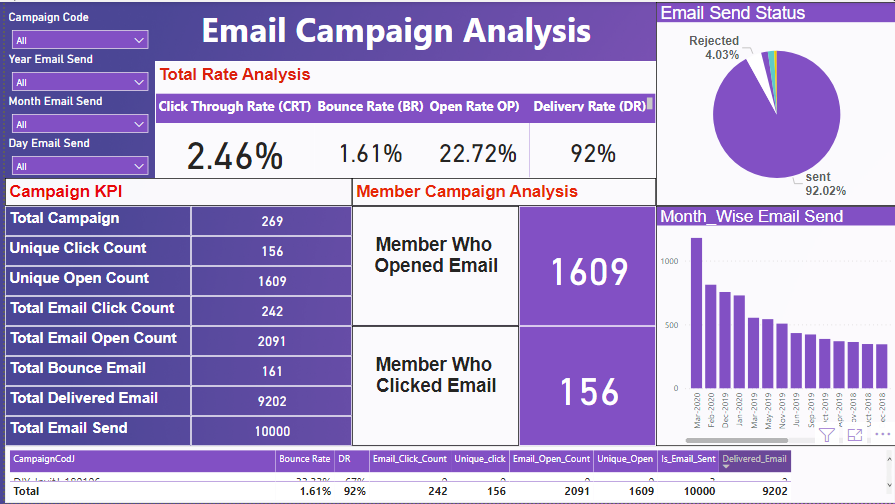

Layout of this report page (visuals, bound fields, positions):
{"tool":"powerbi","page":{"name":"Page 1","canvas":[1280,720],"ordinal":0},"visuals":[{"type":"textbox","box":[215.6,0,692.7,84.8],"z":0},{"type":"slicer","title":"Campaign Code","fields":{"Values":["TBL_Communication.CampaignCodJ"]},"box":[0,11.5,215.6,60.4],"z":1000},{"type":"slicer","title":"Year Email Send","fields":{"Values":["TBL_Communication.Email_SentDate.Variation.Date Hierarchy.Year"]},"box":[0,71.9,215.6,60.4],"z":2000},{"type":"slicer","title":"Month Email Send","fields":{"Values":["TBL_Communication.Email_SentDate.Variation.Date Hierarchy.Month"]},"box":[0,132.2,215.6,60.4],"z":3000},{"type":"slicer","title":"Day Email Send","fields":{"Values":["TBL_Communication.Email_SentDate.Variation.Date Hierarchy.Day"]},"box":[0,192.6,215.6,60.4],"z":4000},{"type":"shape","box":[215.6,84.8,720,168.1],"z":5000},{"type":"textbox","box":[215.6,84.8,720,47.4],"z":6000},{"type":"textbox","box":[215.6,132.2,238.6,37.4],"z":7000},{"type":"textbox","box":[444.1,132.2,176.8,41.7],"z":8000},{"type":"textbox","box":[754.5,132.2,181.1,30.2],"z":9000},{"type":"textbox","box":[605,132.2,149.5,35.9],"z":10000},{"type":"shape","box":[0,252.9,498.7,385.1],"z":11000},{"type":"textbox","box":[0,252.9,498.7,40.2],"z":12000},{"type":"textbox","box":[0,293.2,267.3,43.1],"z":13000},{"type":"textbox","box":[0,336.3,267.3,43.1],"z":14000},{"type":"textbox","box":[0,379.4,267.3,43.1],"z":15000},{"type":"textbox","box":[0,422.5,267.3,43.1],"z":16000},{"type":"textbox","box":[0,465.6,267.3,43.1],"z":17000},{"type":"textbox","box":[0,508.7,267.3,43.1],"z":18000},{"type":"textbox","box":[0,551.9,267.3,43.1],"z":19000},{"type":"textbox","box":[0,595,267.3,43.1],"z":20000},{"type":"card","fields":{"Values":["Count(TBL_Communication.CampaignCodJ)"]},"box":[267.3,293.2,231.4,43.1],"z":21000},{"type":"card","fields":{"Values":["Sum(TBL_Communication.Unique_click)"]},"box":[267.3,336.3,231.4,43.1],"z":22000},{"type":"card","fields":{"Values":["Sum(TBL_Communication.Unique_Open)"]},"box":[267.3,379.4,231.4,43.1],"z":23000},{"type":"card","fields":{"Values":["Sum(TBL_Communication.Email_Click_Count)"]},"box":[267.3,422.5,231.4,43.1],"z":24000},{"type":"card","fields":{"Values":["Sum(TBL_Communication.Email_Open_Count)"]},"box":[267.3,465.6,231.4,43.1],"z":25000},{"type":"card","fields":{"Values":["Sum(TBL_Communication.Bounced_Email)"]},"box":[267.3,508.7,231.4,43.1],"z":26000},{"type":"card","fields":{"Values":["Sum(TBL_Communication.Delivered_Email)"]},"box":[267.3,551.9,231.4,43.1],"z":27000},{"type":"card","fields":{"Values":["Sum(TBL_Communication.Is_Email_Sent)"]},"box":[267.3,595,231.4,43.1],"z":28000},{"type":"card","fields":{"Values":["TBL_Communication.CRT"]},"box":[215.6,173.9,228.5,79],"z":29000},{"type":"card","fields":{"Values":["TBL_Communication.BR"]},"box":[444.1,173.9,161,79],"z":30000},{"type":"card","fields":{"Values":["TBL_Communication.OPR"]},"box":[605,173.9,149.5,79],"z":31000},{"type":"card","fields":{"Values":["TBL_Communication.DR"]},"box":[754.5,173.9,181.1,79],"z":32000},{"type":"shape","box":[498.7,254.4,436.9,383.7],"z":33000},{"type":"textbox","box":[498.7,252.9,436.9,40.2],"z":34000},{"type":"textbox","box":[498.7,293.2,240,172.5],"z":35000},{"type":"textbox","box":[498.7,465.6,240,172.5],"z":36000},{"type":"card","fields":{"Values":["CountNonNull(TBL_Communication.Member Open)"]},"box":[738.7,293.2,196.9,172.5],"z":37000},{"type":"card","fields":{"Values":["CountNonNull(TBL_Communication.Member Clicked)"]},"box":[738.7,465.6,196.9,172.5],"z":38000},{"type":"pieChart","title":"Email Send Status","fields":{"Category":["TBL_Communication.Email_Sent_Status"],"Y":["CountNonNull(TBL_Communication.CampaignCodJ)"]},"box":[935.6,0,344.9,293.2],"z":39000},{"type":"clusteredColumnChart","title":"Month_Wise Email Send","fields":{"Category":["TBL_Communication.Month_Year"],"Y":["Sum(TBL_Communication.Is_Email_Sent)"]},"box":[935.6,293.2,344.9,344.9],"z":40000},{"type":"tableEx","fields":{"Values":["TBL_Communication.CampaignCodJ","TBL_Communication.BR","TBL_Communication.DR","Sum(TBL_Communication.Email_Click_Count)","Sum(TBL_Communication.Unique_click)","Sum(TBL_Communication.Email_Open_Count)","Sum(TBL_Communication.Unique_Open)","Sum(TBL_Communication.Is_Email_Sent)","Sum(TBL_Communication.Delivered_Email)"]},"box":[0,638.1,1280.5,81.9],"z":41000}]}

Visuals, with their boxes in screenshot pixels (x1, y1, x2, y2), scaled from the page's 1280x720 canvas onto the 895x504 screenshot:
textbox: detection(151, 0, 635, 59)
"Campaign Code" slicer: detection(0, 8, 151, 50)
"Year Email Send" slicer: detection(0, 50, 151, 93)
"Month Email Send" slicer: detection(0, 93, 151, 135)
"Day Email Send" slicer: detection(0, 135, 151, 177)
shape: detection(151, 59, 654, 177)
textbox: detection(151, 59, 654, 93)
textbox: detection(151, 93, 318, 119)
textbox: detection(311, 93, 434, 122)
textbox: detection(528, 93, 654, 114)
textbox: detection(423, 93, 528, 118)
shape: detection(0, 177, 349, 447)
textbox: detection(0, 177, 349, 205)
textbox: detection(0, 205, 187, 235)
textbox: detection(0, 235, 187, 266)
textbox: detection(0, 266, 187, 296)
textbox: detection(0, 296, 187, 326)
textbox: detection(0, 326, 187, 356)
textbox: detection(0, 356, 187, 386)
textbox: detection(0, 386, 187, 416)
textbox: detection(0, 416, 187, 447)
card - Count(TBL_Communication.CampaignCodJ): detection(187, 205, 349, 235)
card - Sum(TBL_Communication.Unique_click): detection(187, 235, 349, 266)
card - Sum(TBL_Communication.Unique_Open): detection(187, 266, 349, 296)
card - Sum(TBL_Communication.Email_Click_Count): detection(187, 296, 349, 326)
card - Sum(TBL_Communication.Email_Open_Count): detection(187, 326, 349, 356)
card - Sum(TBL_Communication.Bounced_Email): detection(187, 356, 349, 386)
card - Sum(TBL_Communication.Delivered_Email): detection(187, 386, 349, 416)
card - Sum(TBL_Communication.Is_Email_Sent): detection(187, 416, 349, 447)
card - TBL_Communication.CRT: detection(151, 122, 311, 177)
card - TBL_Communication.BR: detection(311, 122, 423, 177)
card - TBL_Communication.OPR: detection(423, 122, 528, 177)
card - TBL_Communication.DR: detection(528, 122, 654, 177)
shape: detection(349, 178, 654, 447)
textbox: detection(349, 177, 654, 205)
textbox: detection(349, 205, 517, 326)
textbox: detection(349, 326, 517, 447)
card - CountNonNull(TBL_Communication.Member Open): detection(517, 205, 654, 326)
card - CountNonNull(TBL_Communication.Member Clicked): detection(517, 326, 654, 447)
"Email Send Status" pieChart: detection(654, 0, 894, 205)
"Month_Wise Email Send" clusteredColumnChart: detection(654, 205, 894, 447)
tableEx - TBL_Communication.CampaignCodJ x TBL_Communication.BR: detection(0, 447, 894, 503)
